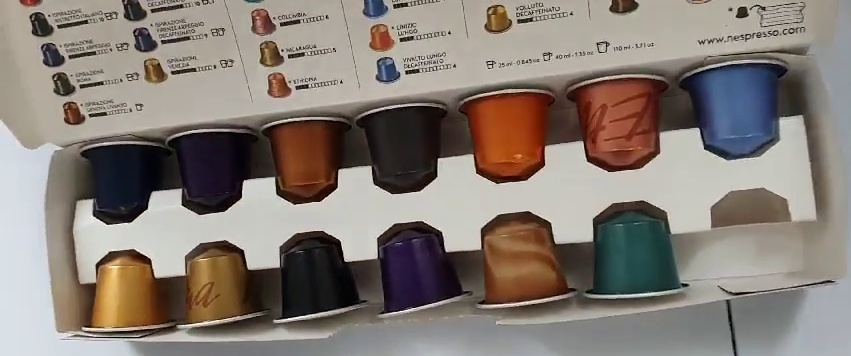capsule_1: (79, 141, 166, 226)
capsule_10: (269, 230, 372, 326)
capsule_11: (369, 223, 473, 314)
capsule_12: (468, 208, 576, 312)
capsule_13: (580, 204, 688, 299)
capsule_2: (164, 126, 264, 214)
capsule_3: (259, 118, 350, 201)
capsule_4: (355, 100, 453, 192)
capsule_5: (452, 82, 555, 178)
capsule_6: (564, 73, 674, 168)
capsule_7: (681, 57, 794, 157)
capsule_8: (78, 252, 175, 337)
capsule_9: (173, 243, 270, 331)
